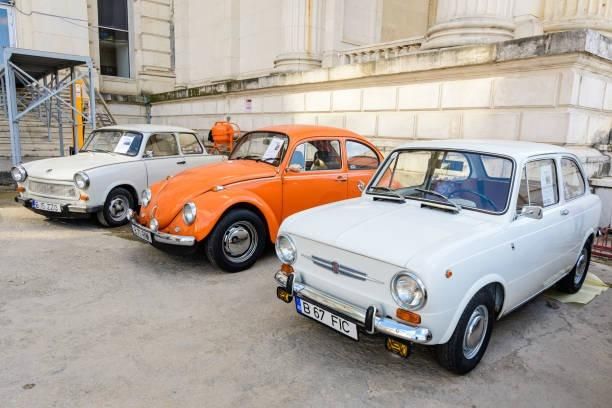car: (284, 144, 604, 353), (132, 122, 411, 263), (13, 120, 230, 227)
